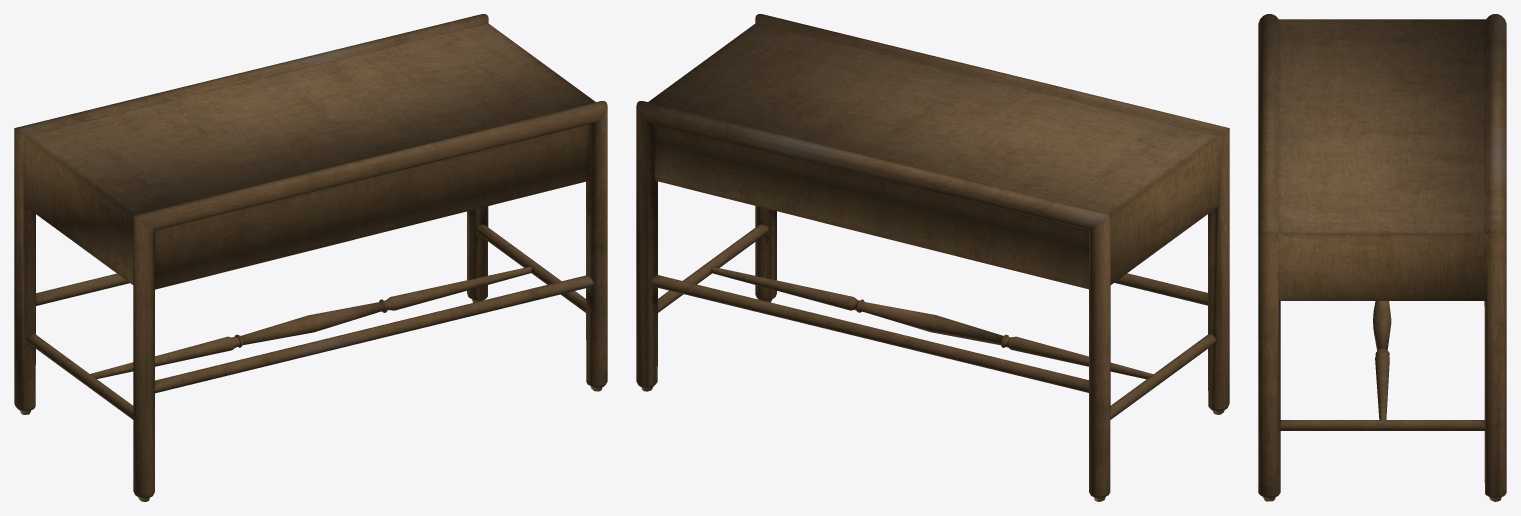
Rendered from small_wooden_table_01.glb.
3 renders of one model, left to right at view 1: azimuth 30°, elevation 25°; view 2: azimuth 150°, elevation 25°; view 3: azimuth 270°, elevation 25°, orthographic. The views are drawn at different scales.
Visible parts, largest first — view 1: small_wooden_table_01; view 2: small_wooden_table_01; view 3: small_wooden_table_01.
Boxes of the visible parts, x1,y1,x2,y2 form: small_wooden_table_01: (14,14,607,501); small_wooden_table_01: (636,14,1229,501); small_wooden_table_01: (1258,14,1506,501).
Size of the model in its own units: 0.9162 by 0.5331 by 0.44.
Materials: 1 (1 with a texture image).
